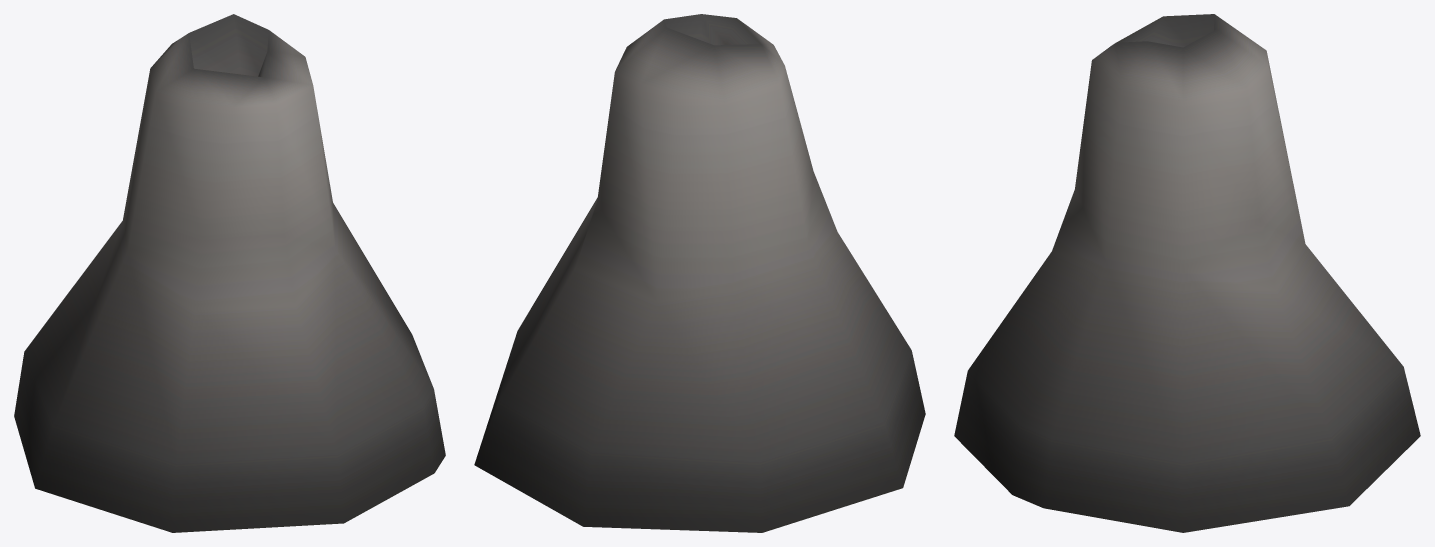
Rendered from m_Vent05_A.fbx.
The picture shows the model from 3 angles, left to right: view 1: azimuth 30°, elevation 25°; view 2: azimuth 150°, elevation 25°; view 3: azimuth 270°, elevation 25°; orthographic projection. The views are drawn at different scales.
Visible parts, largest first — view 1: m_Vent05_A; view 2: m_Vent05_A; view 3: m_Vent05_A.
Boxes of the visible parts, box(x1,y1,x2,y2) form: m_Vent05_A: box(14, 14, 445, 532); m_Vent05_A: box(474, 14, 925, 532); m_Vent05_A: box(954, 14, 1420, 532).
Bounding box in the file's own units: 203 × 203 × 206.
